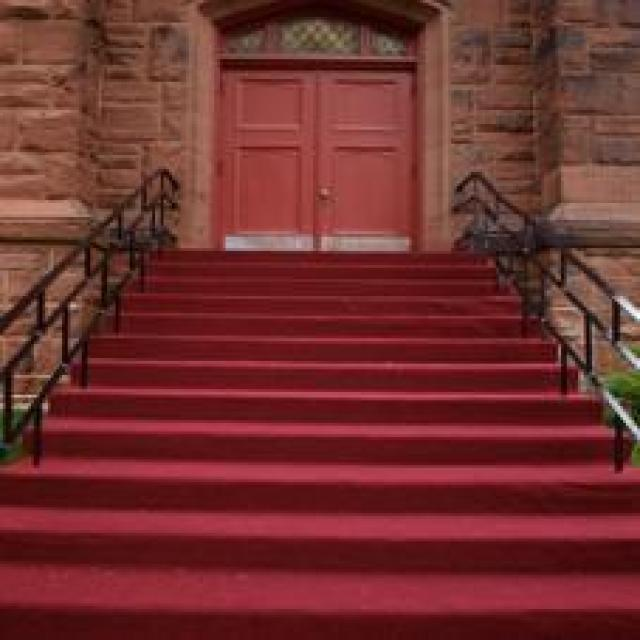upstair: (35, 421, 525, 638)
